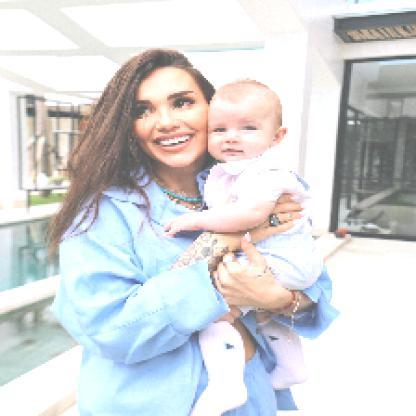child: (164, 77, 326, 415)
